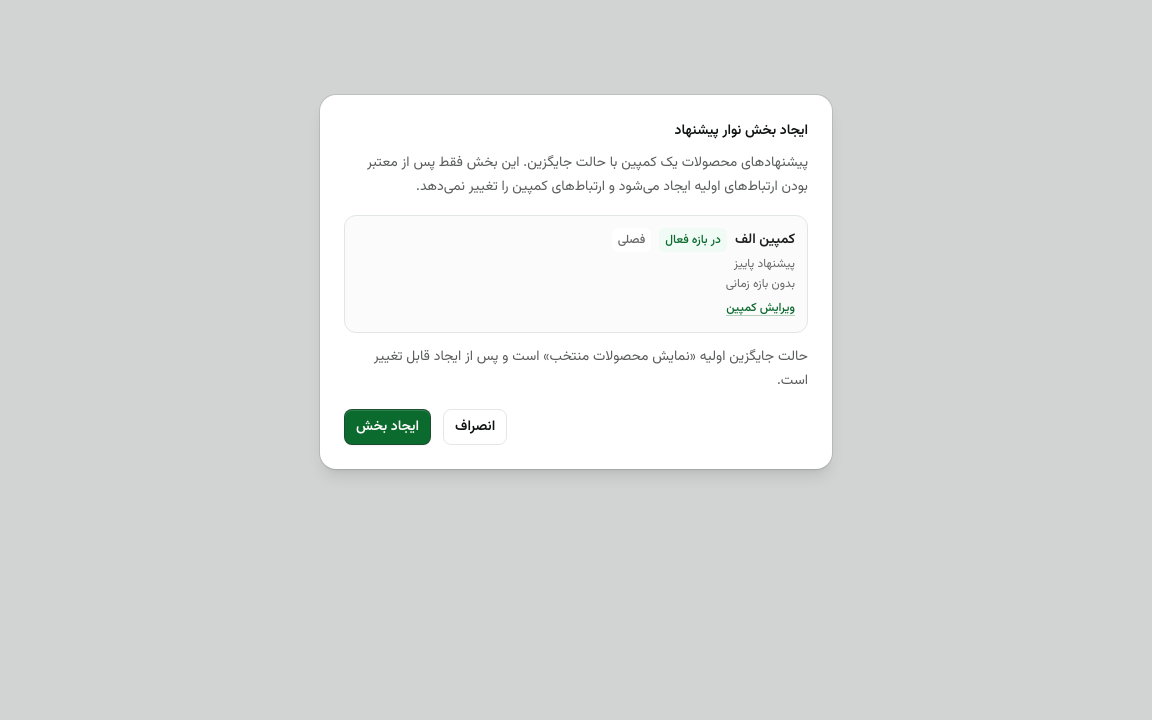
HomepageCampaignSectionCreateDialog (SS-278) › shows insertion errors without closing or mutating anything itself
The image size is (1152, 720).
What coordinates should you click on to do the following:
click the button "ایجاد بخش"
I would click on:
 (388, 426)
Its box is [344,408,431,444].
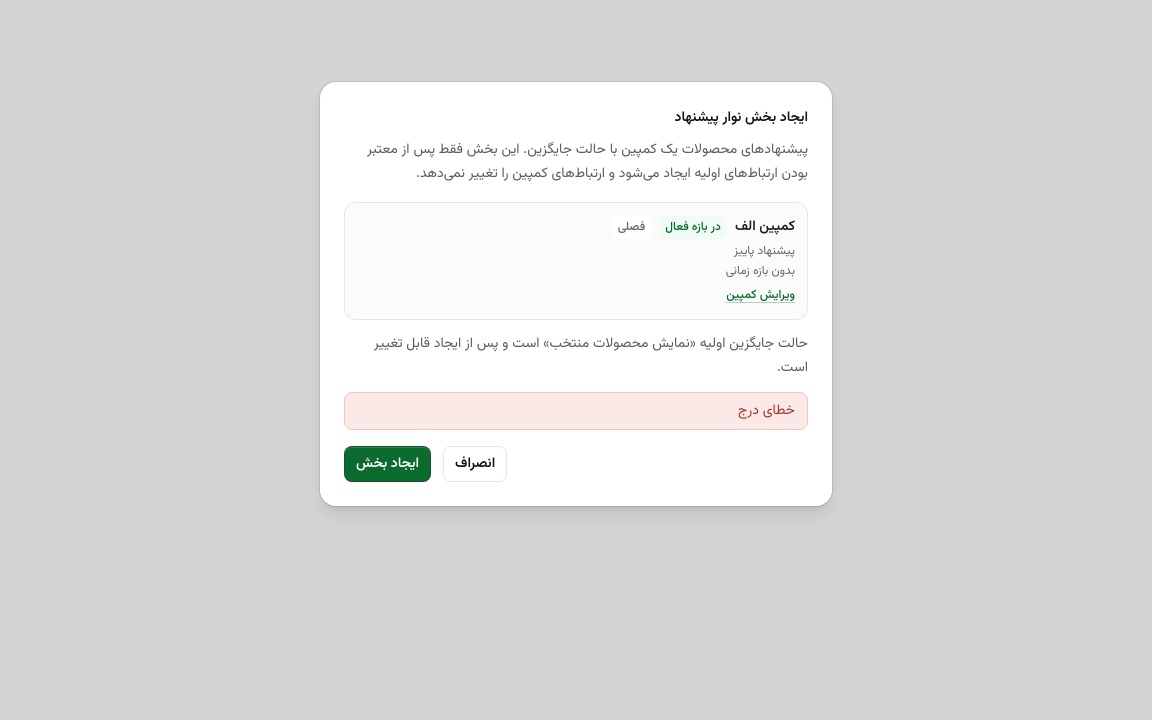
Result: the text "خطای درج" is shown at [344,392,808,430]
